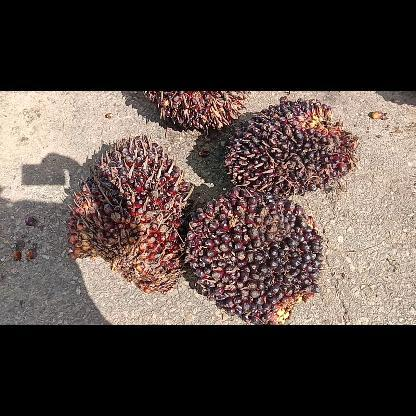TBS mentah: (66, 134, 198, 293), (186, 186, 323, 324), (223, 96, 358, 198), (144, 90, 250, 132)
